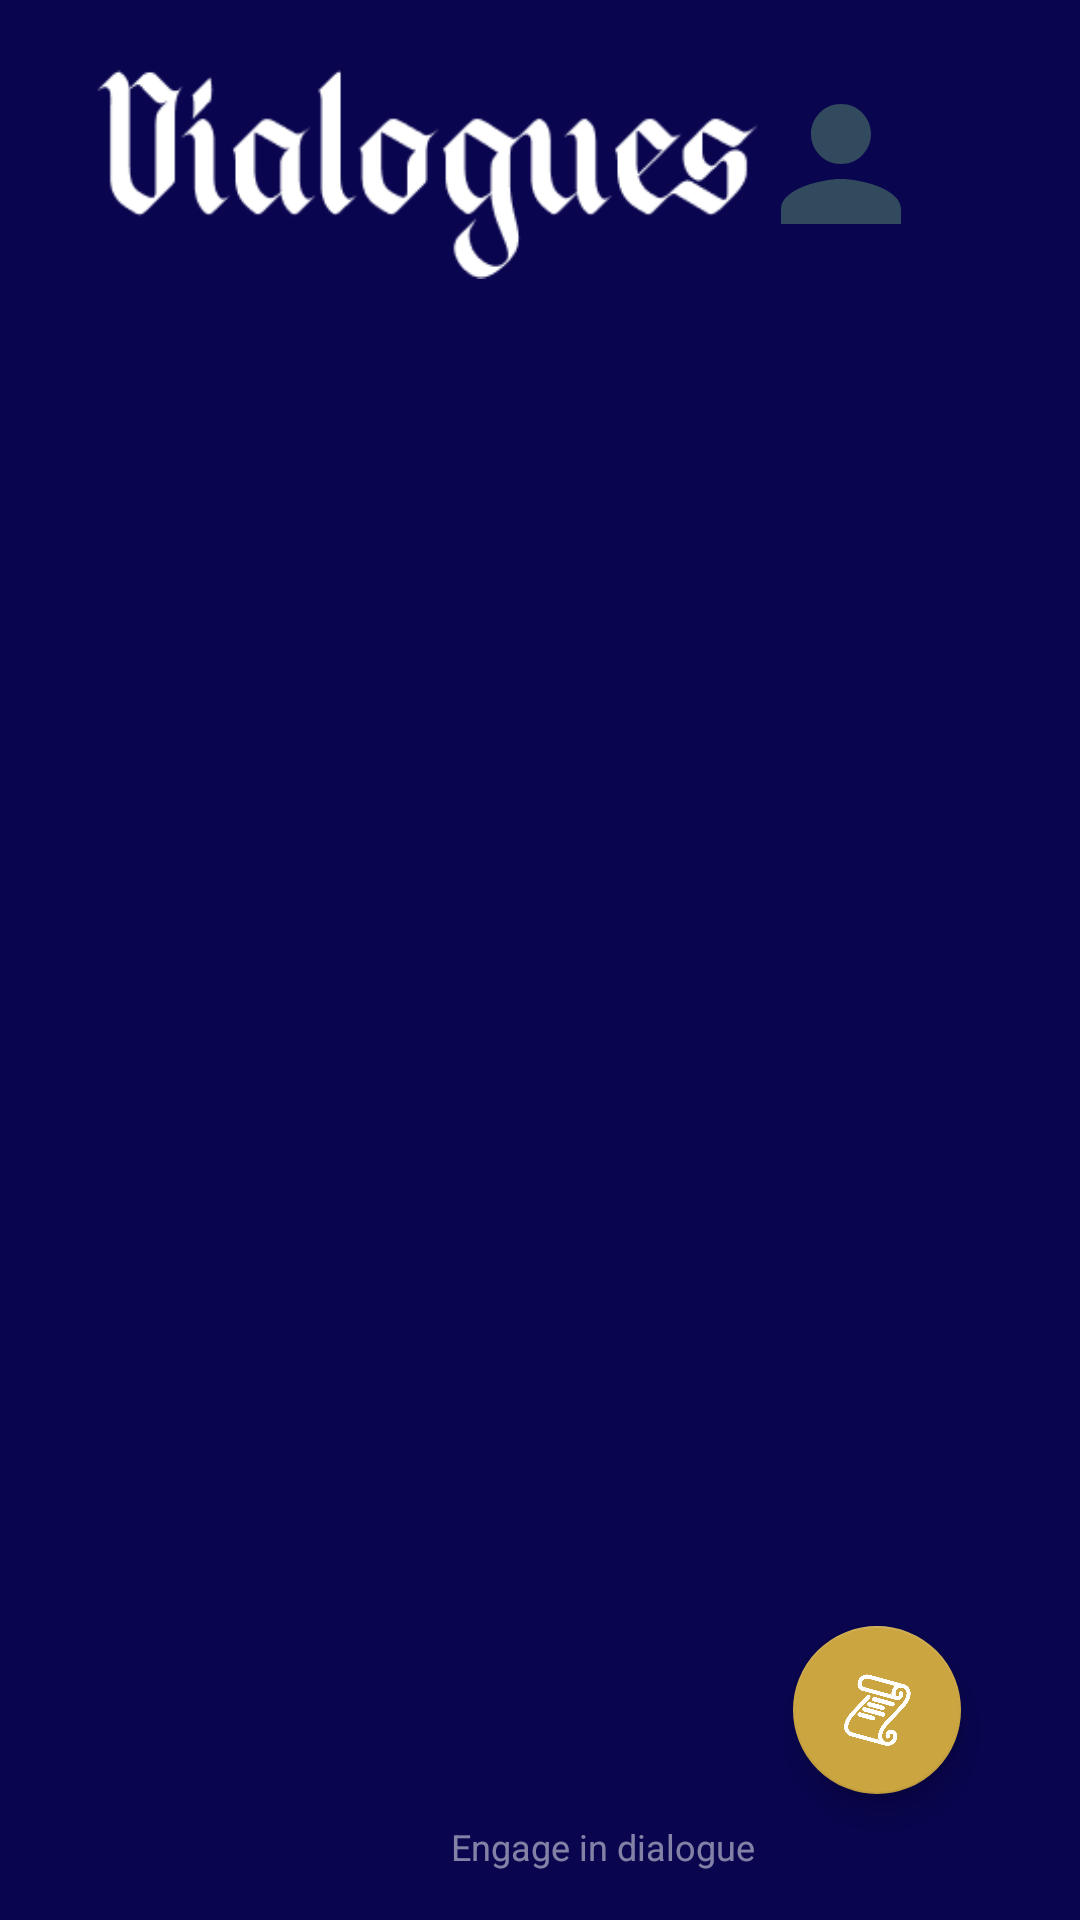

Screen size 1080w x 1920h. Icon name, then its box in pixels as [x1,y1,x2,y2]:
person: [781,104,901,224]
scroll: [793,1626,961,1794]
